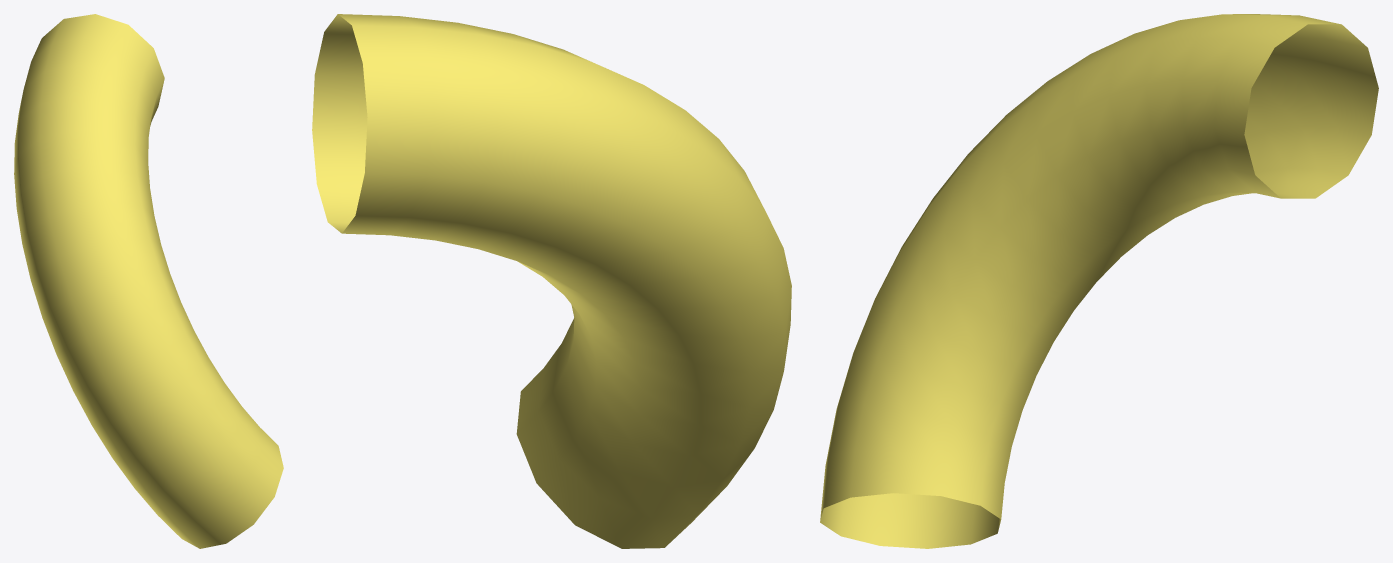
The picture shows the model from 3 angles, left to right: view 1: azimuth 30°, elevation 25°; view 2: azimuth 150°, elevation 25°; view 3: azimuth 270°, elevation 25°; orthographic projection. The views are drawn at different scales.
Visible parts, largest first — view 1: Torus.001; view 2: Torus.001; view 3: Torus.001.
Part boxes in pixels (x1,y1,x2,y2): Torus.001: [14, 14, 283, 548]; Torus.001: [312, 14, 791, 548]; Torus.001: [820, 14, 1378, 548].
Bounding box in the file's own units: 0.3642 × 0.7331 × 0.6633.
